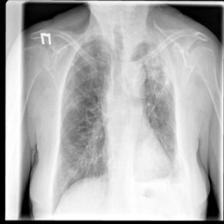tuberculosis: (46, 28, 184, 215)
